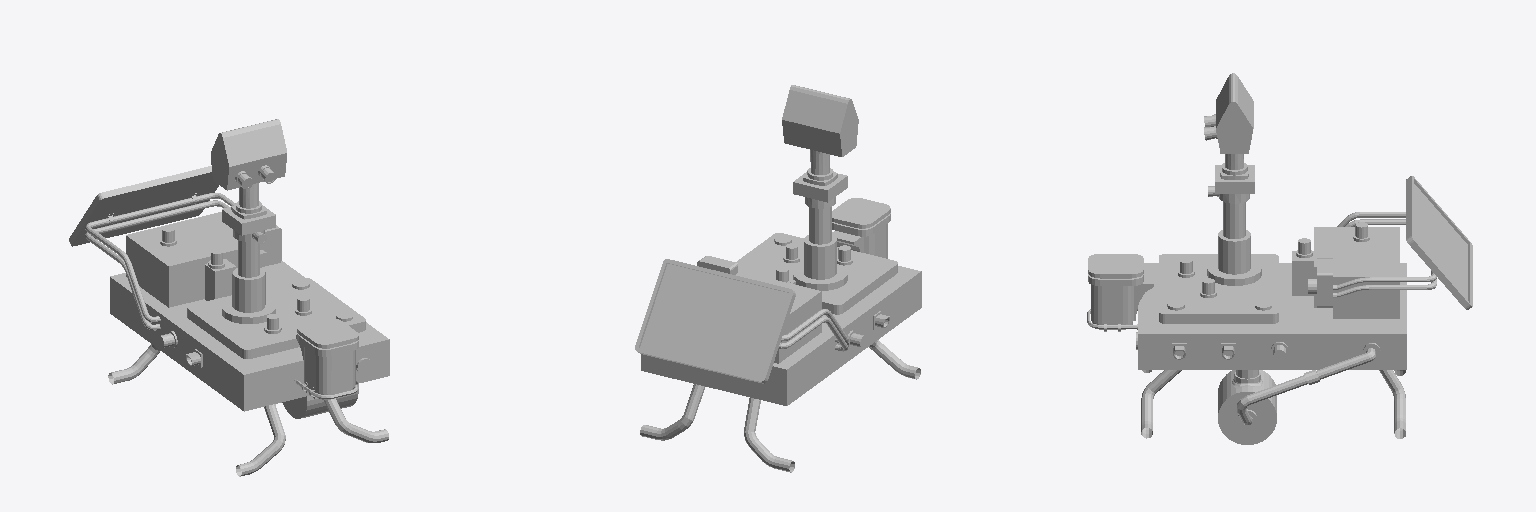
File: Rover_body.obj
3 renders of one model, left to right at view 1: azimuth 30°, elevation 25°; view 2: azimuth 150°, elevation 25°; view 3: azimuth 270°, elevation 25°, orthographic.
Visible parts, largest first — view 1: Rover_body; view 2: Rover_body; view 3: Rover_body.
Boxes of the visible parts, x1,y1,x2,y2 form: Rover_body: [69, 119, 389, 476]; Rover_body: [635, 85, 921, 472]; Rover_body: [1087, 73, 1472, 444].
Bounding box in the file's own units: 2.2 × 3.36 × 3.81.